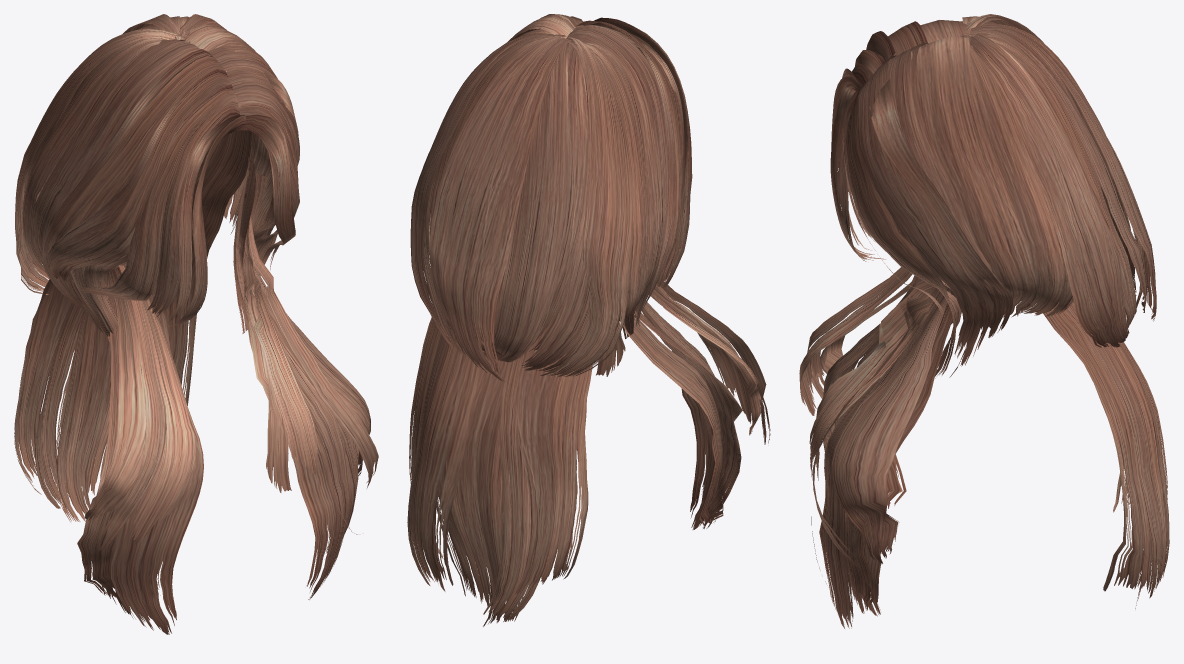
The model's file is mh_elvs_daisy_hair.glb.
3 renders of one model, left to right at view 1: azimuth 30°, elevation 25°; view 2: azimuth 150°, elevation 25°; view 3: azimuth 270°, elevation 25°, orthographic. The views are drawn at different scales.
Visible parts, largest first — view 1: mh_elvs_daisy_hair; view 2: mh_elvs_daisy_hair; view 3: mh_elvs_daisy_hair.
Boxes of the visible parts, x1=… form: mh_elvs_daisy_hair: x1=14, y1=14, x2=378, y2=634; mh_elvs_daisy_hair: x1=407, y1=14, x2=770, y2=626; mh_elvs_daisy_hair: x1=799, y1=14, x2=1169, y2=628.
Bounding box in the file's own units: 0.3361 × 0.6409 × 0.3535.
1 material, 1 textured.
